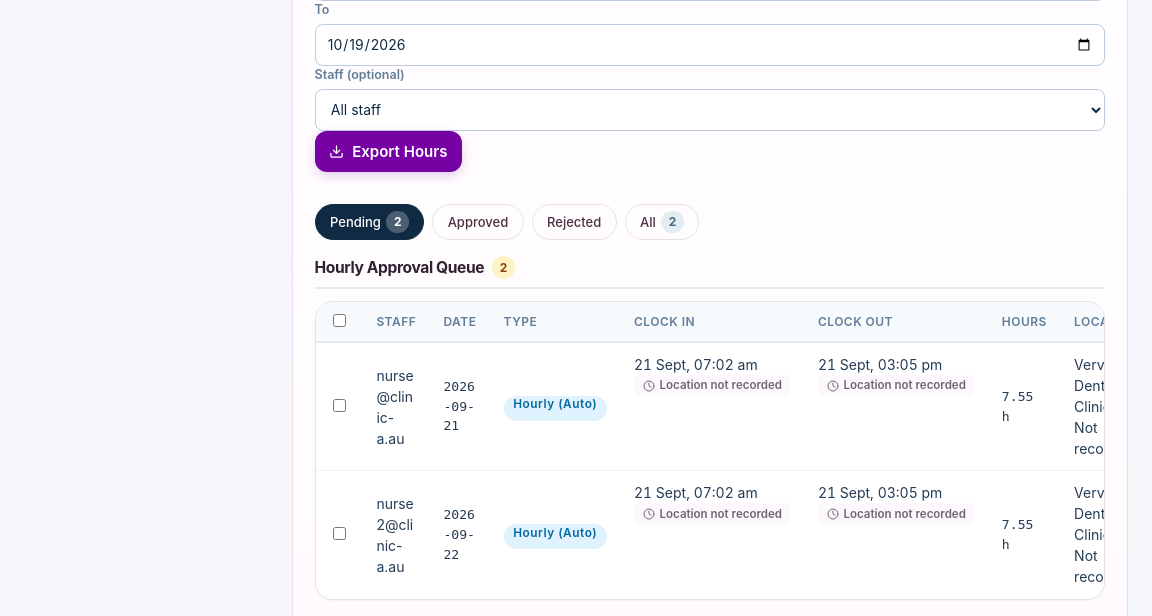
Test case: ApprovalQueue — bulk selection checkboxes › clicking Select All again clears all selections (deselect all)
(page scrolled)
Expected: the cell "nurse@clinic-a.au" is shown, [363, 342, 430, 471]
# Select all, then click again to deselect all
Click the checkbox named "select all timesheets": x=340, y=321 [333, 314, 346, 327]
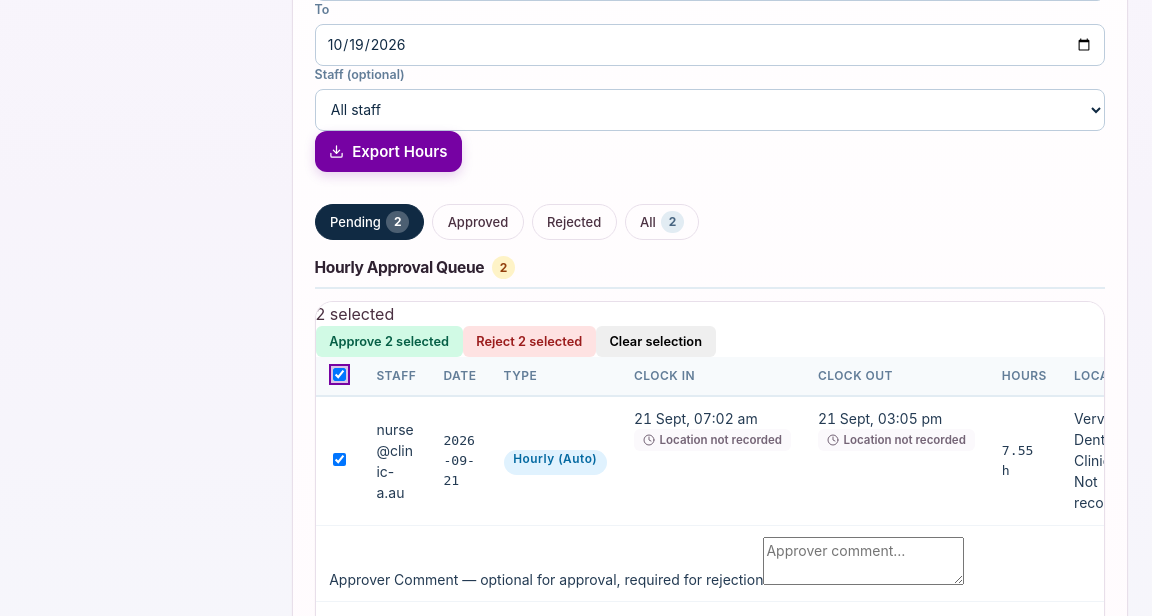
Click the checkbox named "select all timesheets": x=340, y=375 [333, 368, 346, 382]
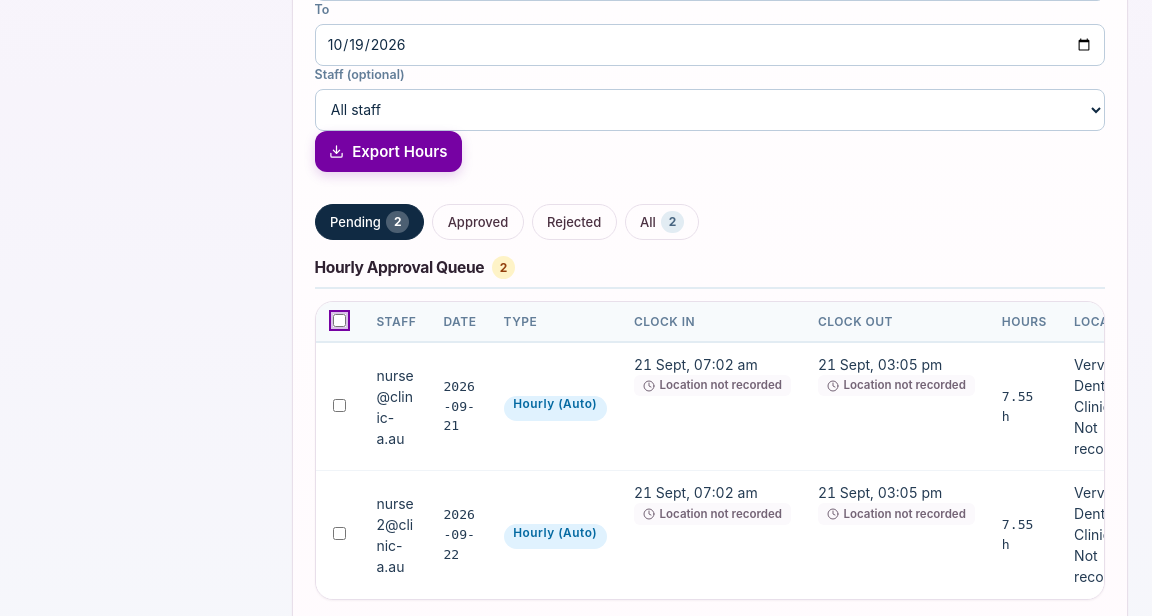
Expected: the checkbox named "select timesheet for" is not checked, [333, 399, 346, 412]
